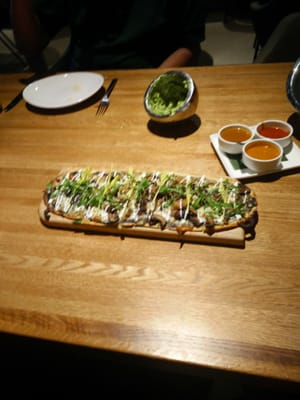sandwich: (95, 78, 118, 118)
sushi: (143, 70, 199, 123), (255, 119, 294, 159), (241, 139, 283, 173), (218, 124, 254, 156)
